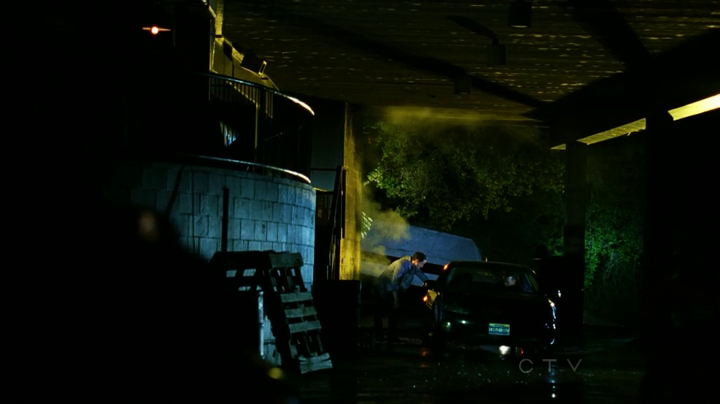car: (418, 258, 569, 352)
